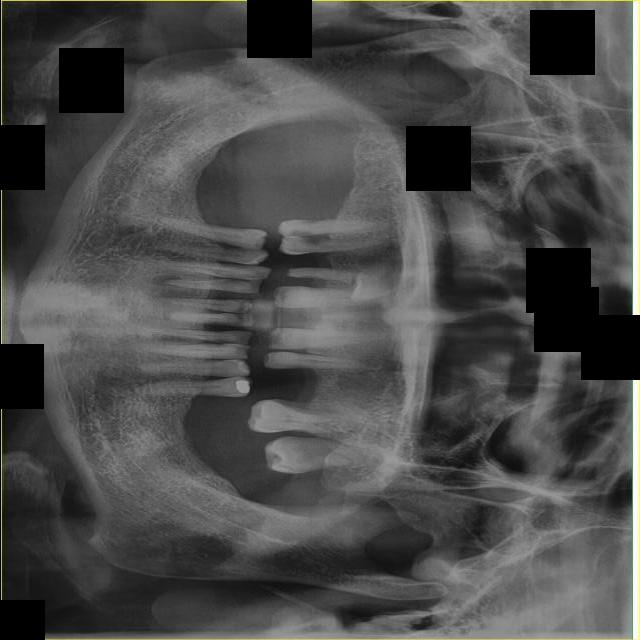NucleOSS Implant: (235, 378, 250, 392)
Sterngold Implant: (212, 278, 255, 287), (299, 236, 329, 248), (268, 451, 283, 466), (290, 229, 315, 237), (301, 220, 324, 225)
